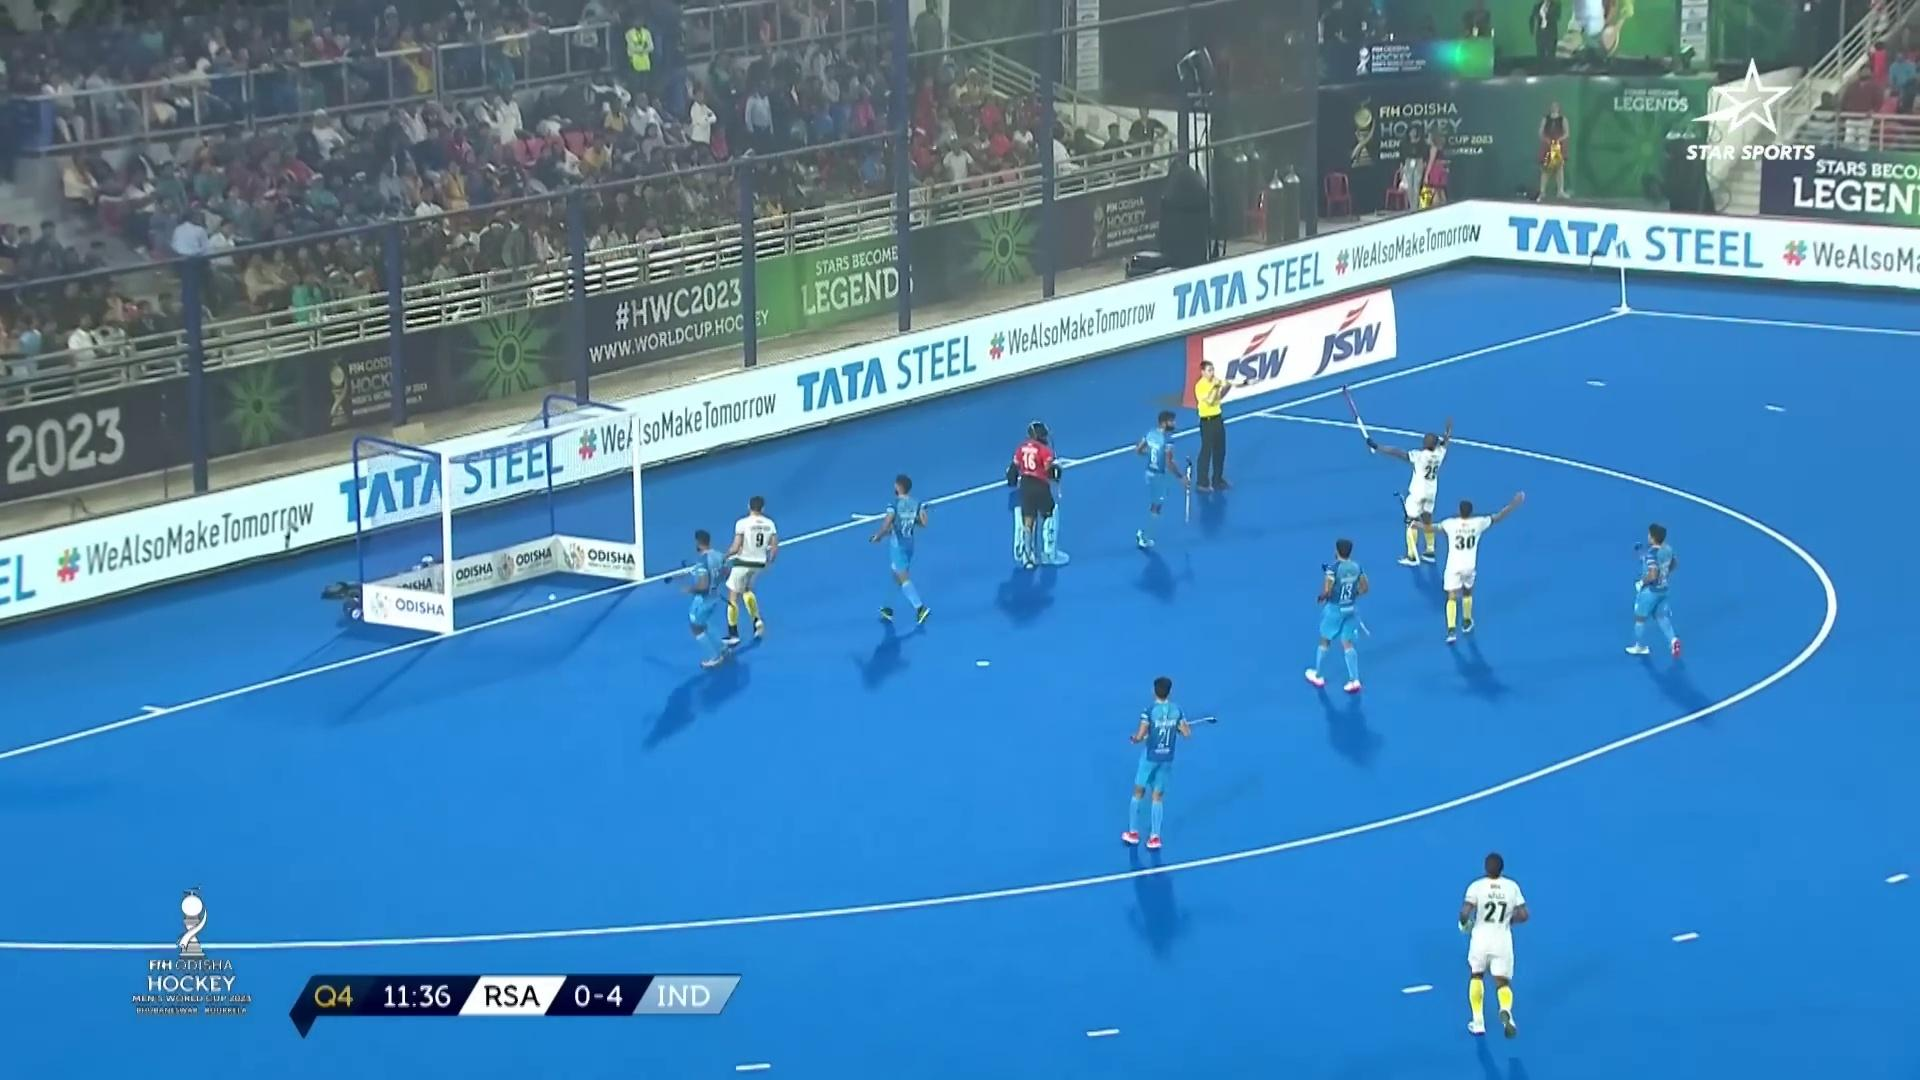ball: (541, 593, 563, 604)
